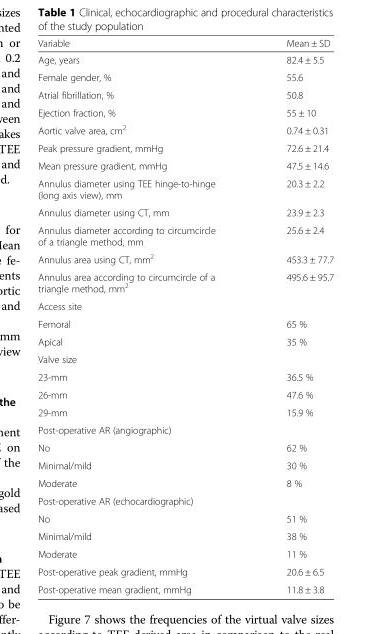table: (37, 37, 333, 594)
table column: (37, 37, 250, 594), (250, 37, 333, 594)
table column header: (37, 37, 333, 50)
table projected row header: (37, 420, 333, 438), (37, 491, 333, 509), (37, 297, 333, 314), (37, 350, 333, 367)
table row: (37, 267, 333, 297), (37, 174, 333, 203), (37, 221, 333, 249), (37, 50, 333, 68), (37, 85, 333, 103), (37, 120, 333, 138), (37, 138, 333, 156), (37, 156, 333, 174), (37, 203, 333, 221), (37, 249, 333, 267), (37, 314, 333, 332), (37, 332, 333, 350), (37, 367, 333, 385), (37, 385, 333, 403), (37, 420, 333, 438), (37, 438, 333, 456), (37, 456, 333, 474), (37, 491, 333, 509), (37, 509, 333, 527), (37, 544, 333, 562), (37, 562, 333, 580), (37, 68, 333, 85), (37, 103, 333, 120), (37, 297, 333, 314), (37, 350, 333, 367), (37, 403, 333, 420), (37, 474, 333, 491), (37, 527, 333, 544), (37, 580, 333, 594), (37, 37, 333, 50)
